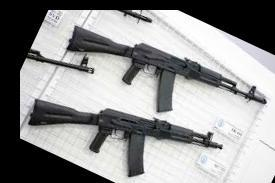larga: (65, 25, 267, 114), (28, 97, 224, 178)
